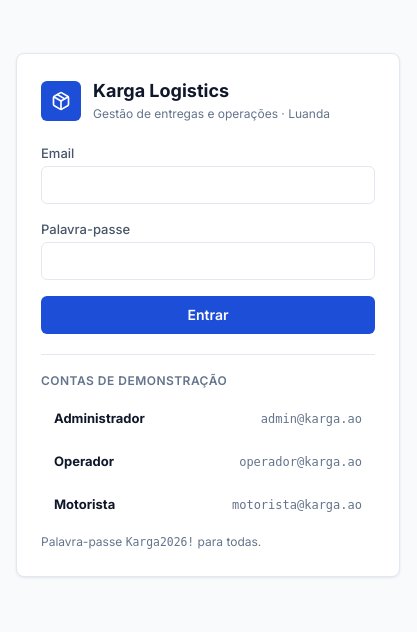
Test case: Login › explains a lockout rather than repeating "erro"
Type "admin@karga.ao" into the field labelled "Email" at (208, 185), box [41,166,375,204]
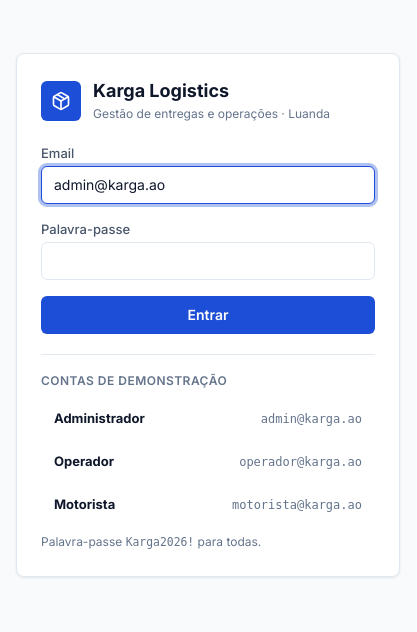
Type "errada" into the password field labelled "Palavra-passe" at (208, 261), box [41,242,375,280]
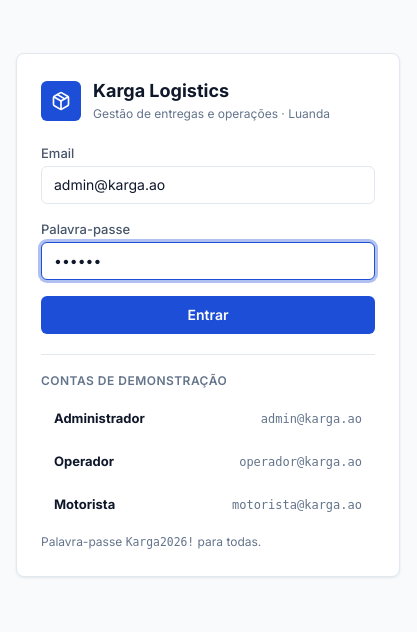
Click the button "Entrar" at (208, 315), box [41,296,375,334]
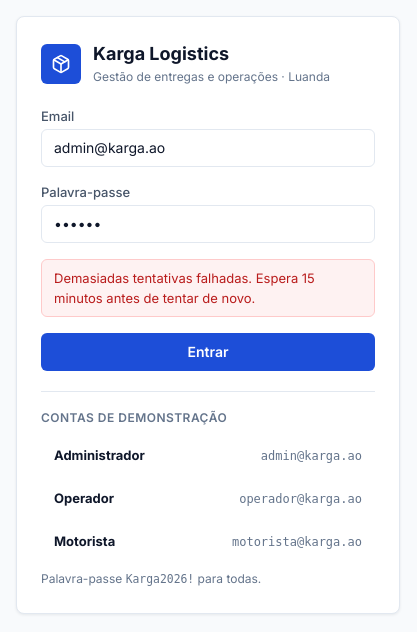
Expected: the message shows "15 minutos", [54,270,315,306]
